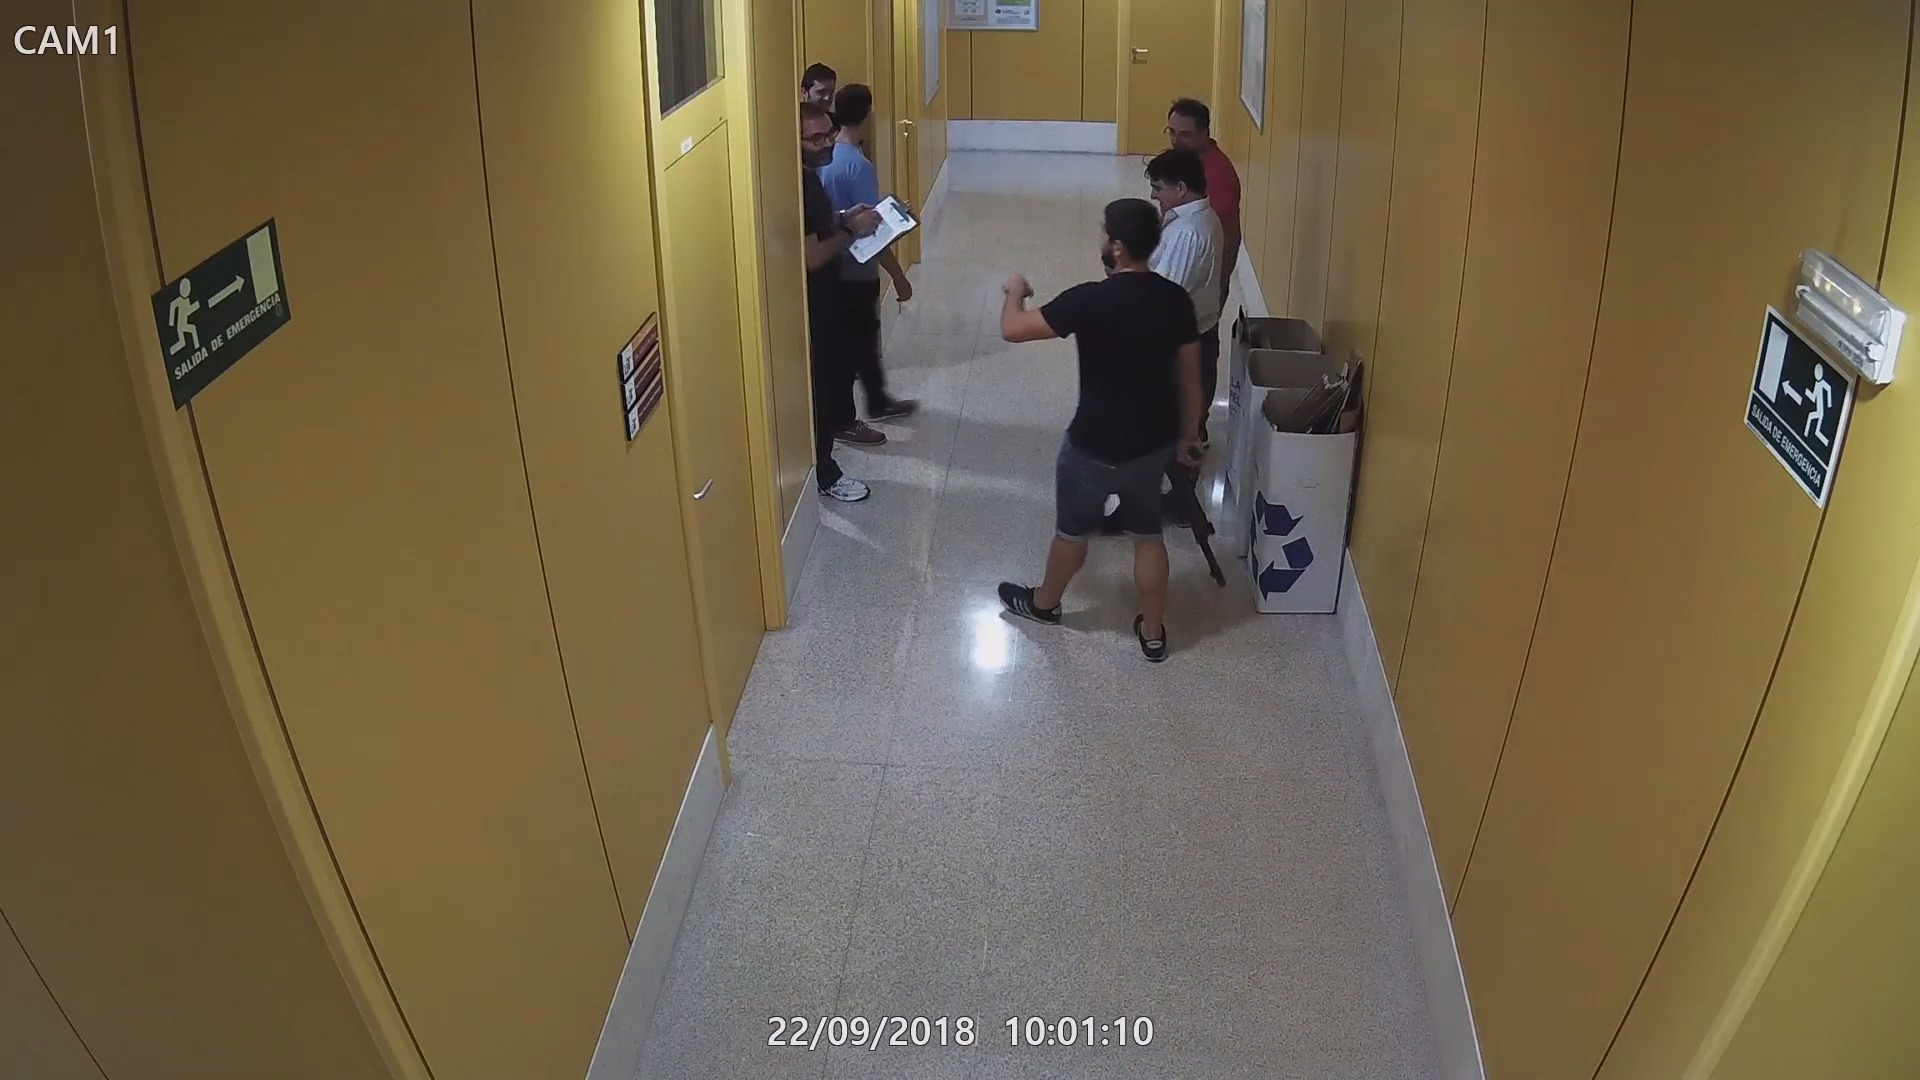Short_rifle: (1166, 440, 1232, 588)
